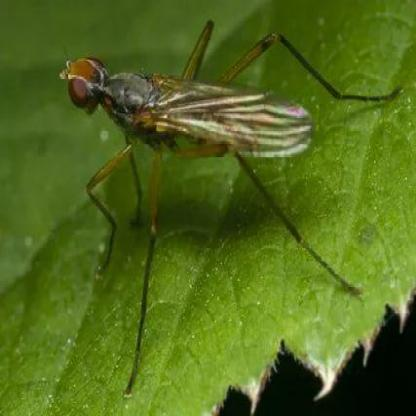aphid: (52, 11, 395, 309)
